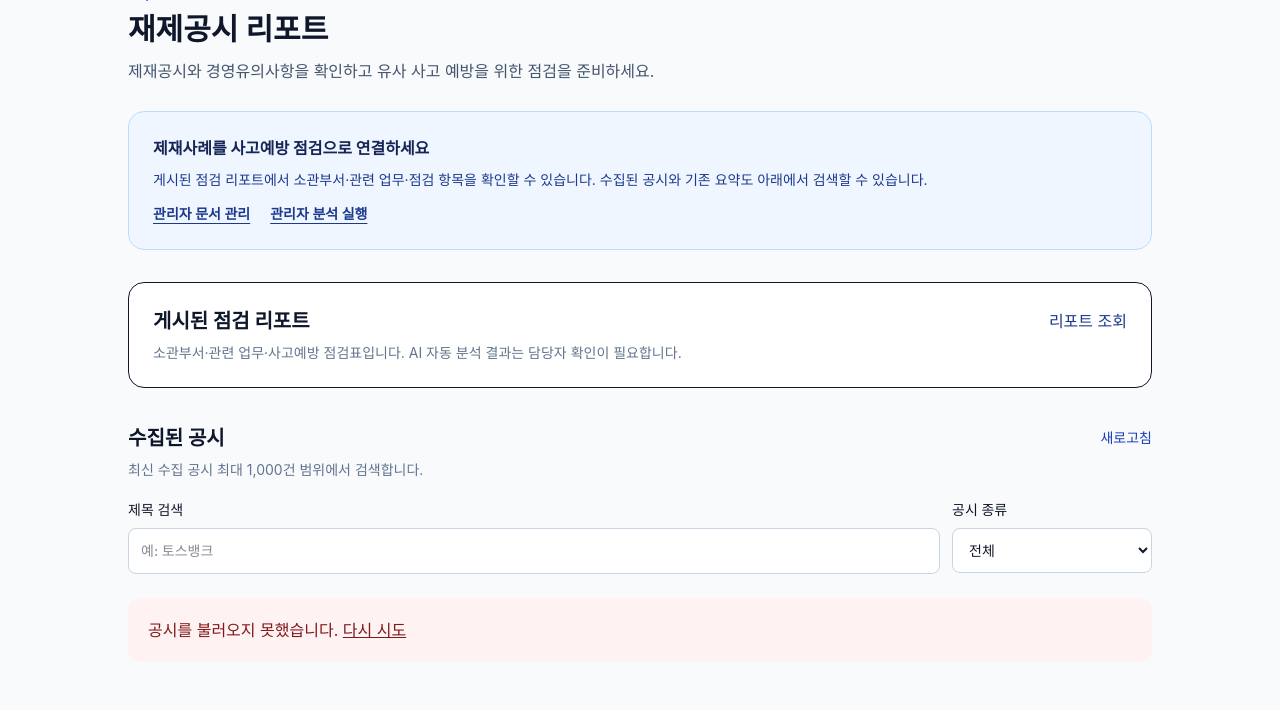
Test: sanction reports page › offers retry after failure and shows a true empty response
(page scrolled)
Click the button "다시 시도": (374, 630) [343,618,406,642]
(page scrolled)
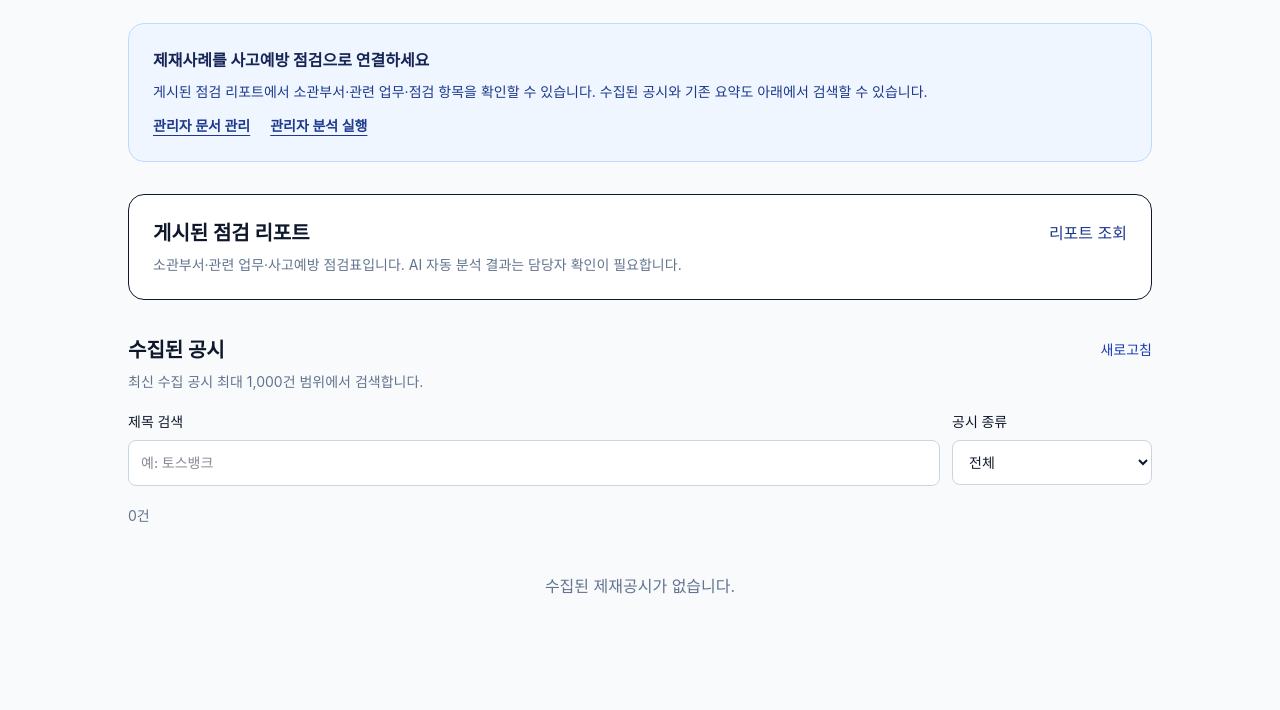
Check: the text "수집된 제재공시가 없습니다." is shown, box [545,576,735,596]
